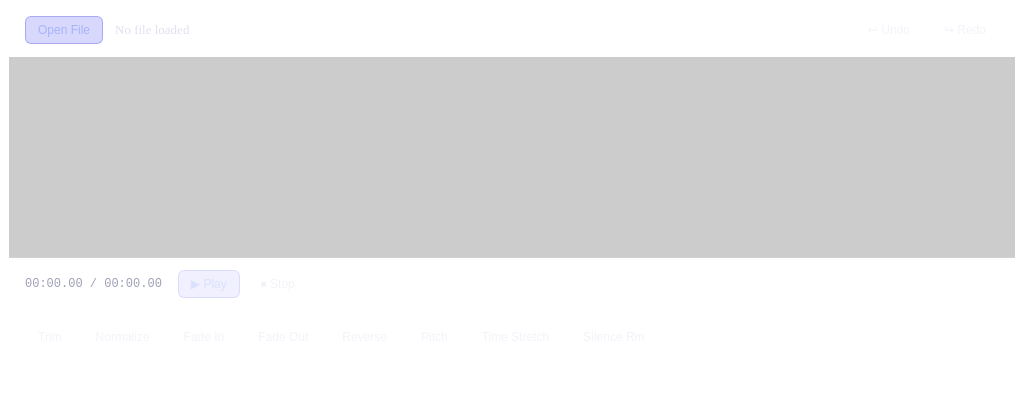
Scenario: WaveEditor Component › Edit Operations › Fade In shows parameter input when clicked
Click the button "Open File". click: (64, 30)
box: [25,16,103,44]
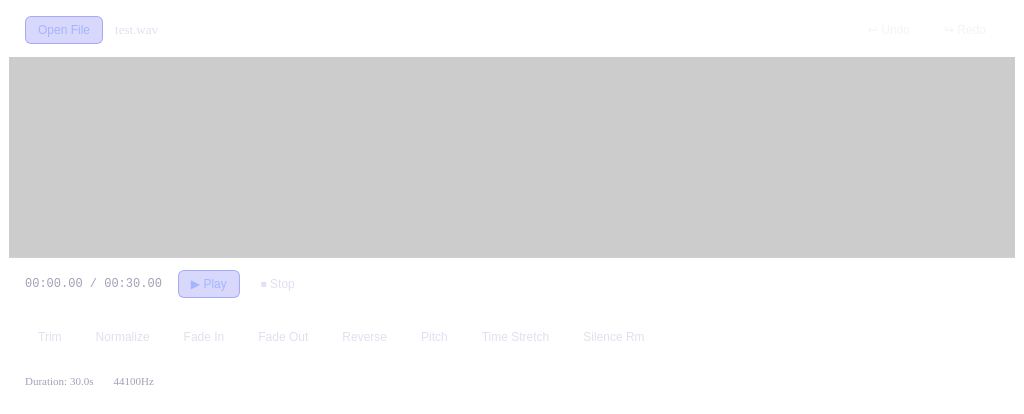
Click the button "Fade In". click: (204, 337)
box: [171,323,237,351]
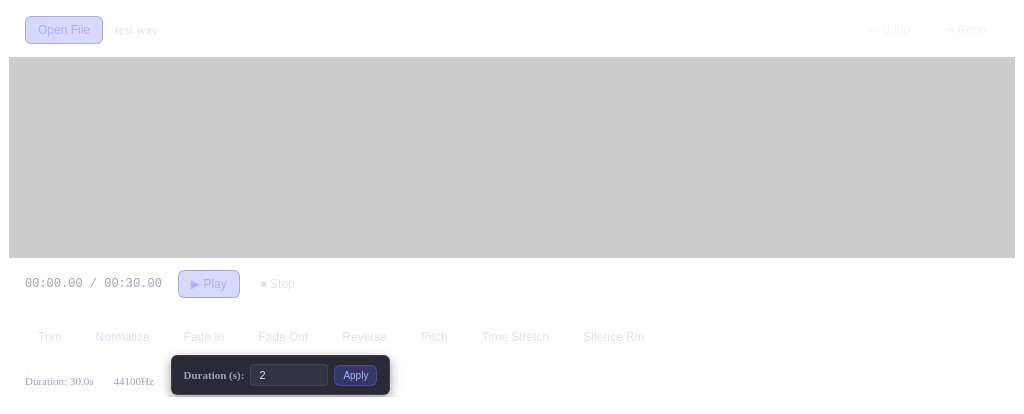
Expected: the element with class "fade-in-param" is shown, [171,355,390,395]
